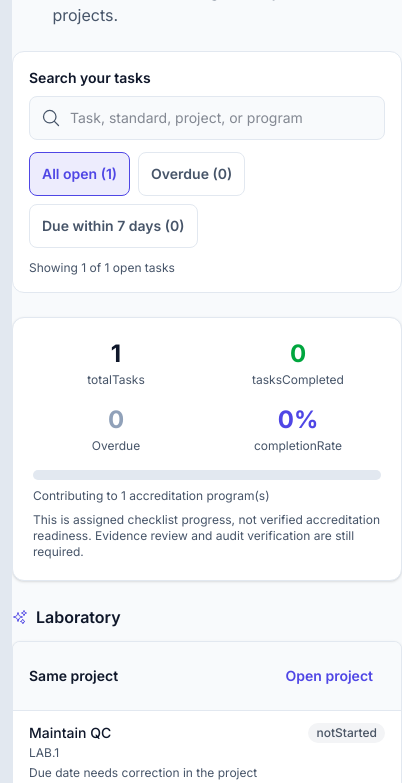
Test case: Accreditation workspace improvements › searches requirement metadata and resets a no-match filter without losing tasks
Type "LAB.1" into the search field. click: x=207, y=118
box: [29,96,385,140]
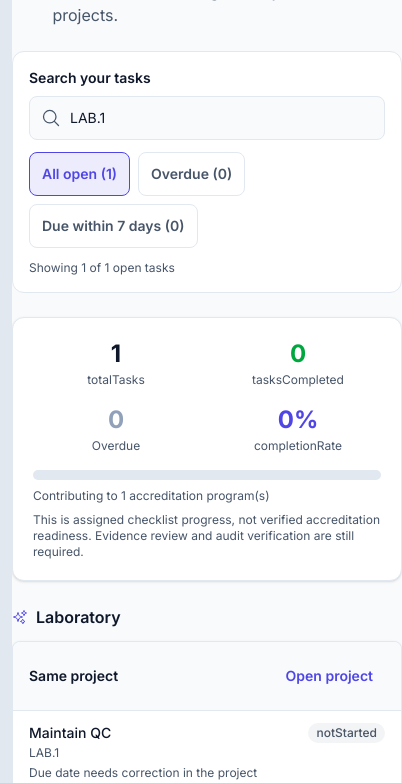
Check: the text "Maintain QC" is shown, box [29,724,111,741]
Replace the text in the search field with "missing". click: x=207, y=118
box: [29,96,385,140]
(page scrolled)
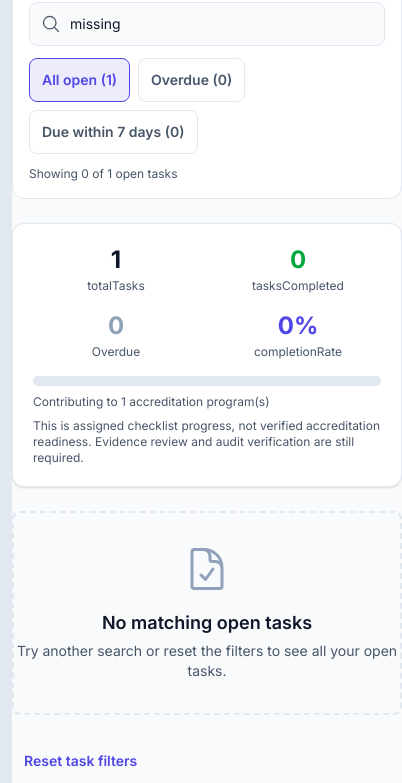
Check: the heading "No matching open tasks" is shown, box [102,612,312,633]
Click the button "Reset task filters". click: x=81, y=761
box: [12,739,149,782]
(page scrolled)
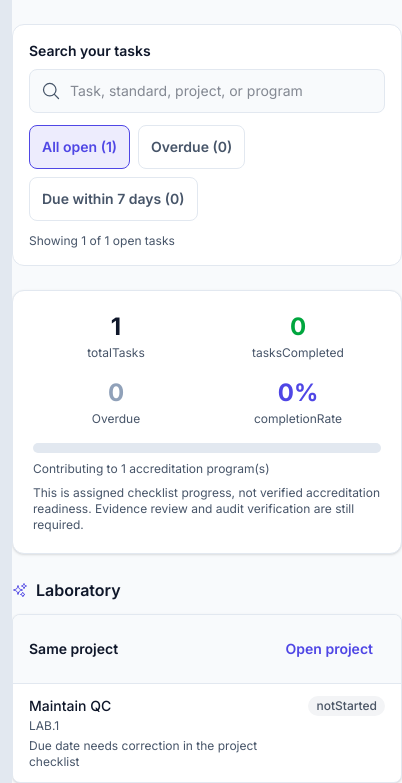
Check: the text "Maintain QC" is shown, box [29,697,111,714]
Check: the message reads "Showing 1 of 1 open tasks", box [29,233,175,248]
